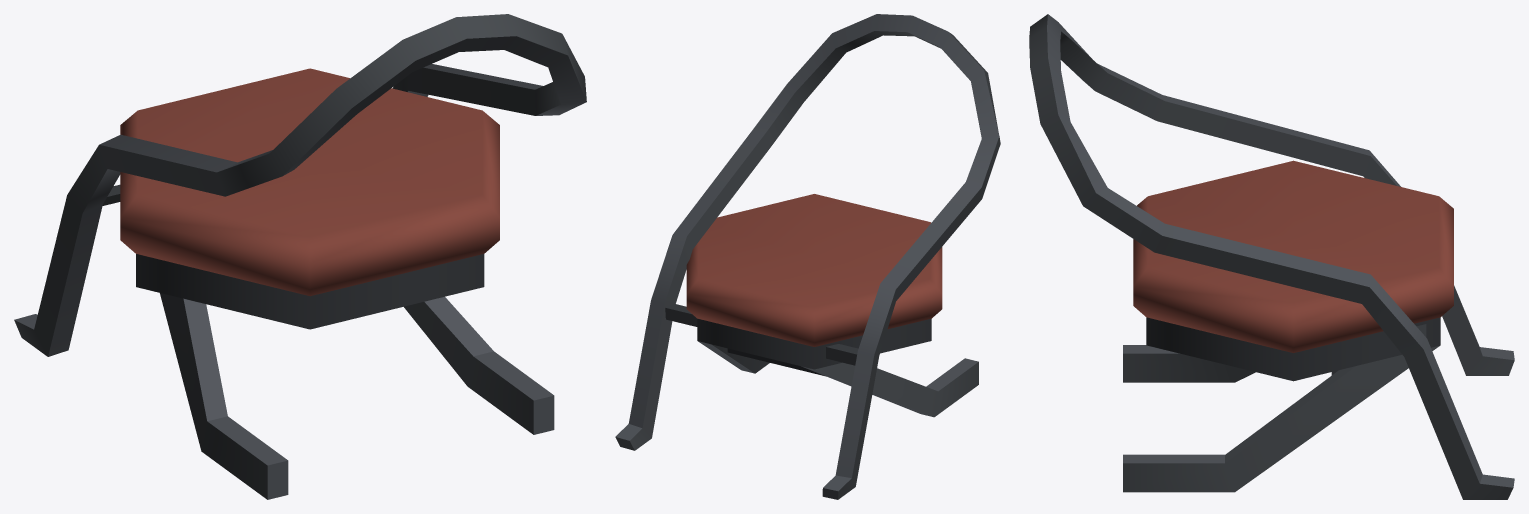
File: SM_GameArea_Chair_01.fbx
3 renders of one model, left to right at view 1: azimuth 30°, elevation 25°; view 2: azimuth 150°, elevation 25°; view 3: azimuth 270°, elevation 25°, orthographic. The views are drawn at different scales.
Parts seen in each view (by area): view 1: SM_GameArea_Chair_01; view 2: SM_GameArea_Chair_01; view 3: SM_GameArea_Chair_01.
Boxes of the visible parts, x1,y1,x2,y2 form: SM_GameArea_Chair_01: (14,14,586,499); SM_GameArea_Chair_01: (615,14,1000,499); SM_GameArea_Chair_01: (1029,14,1514,499).
Size of what is drawn, in the model's own units: 200 by 242 by 262.
